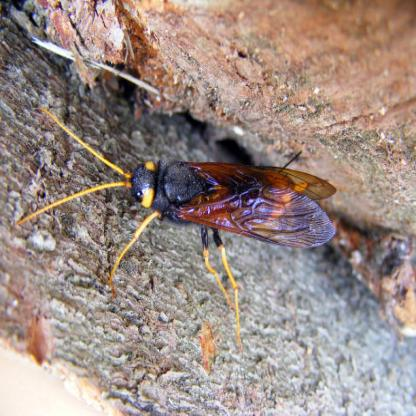sawfly: (24, 99, 348, 344)
